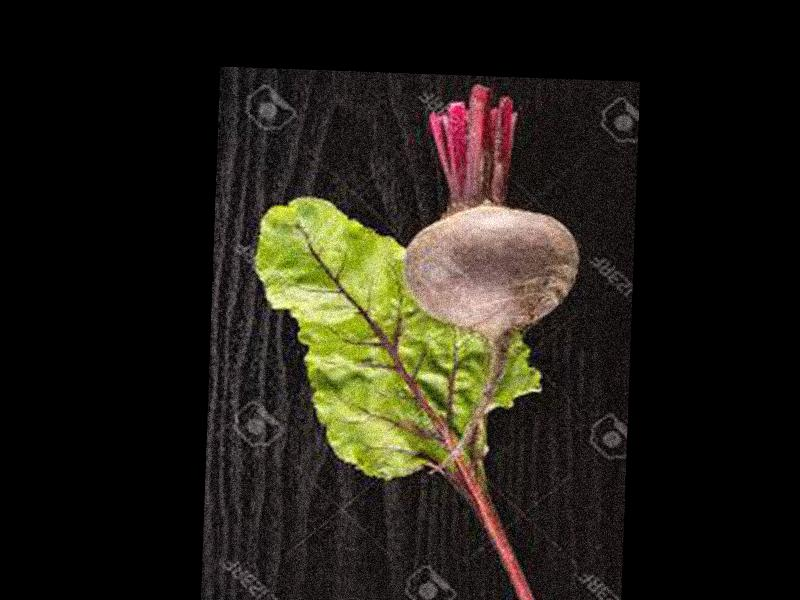Beet: (396, 81, 585, 478)
